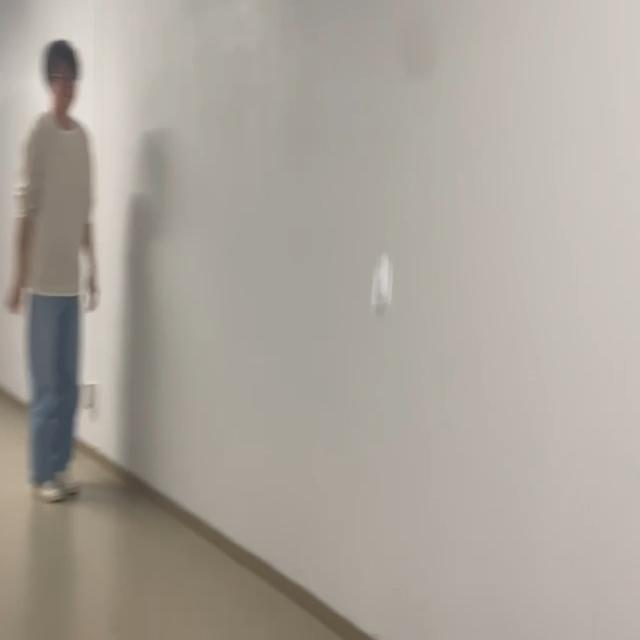paper: (369, 250, 397, 313)
